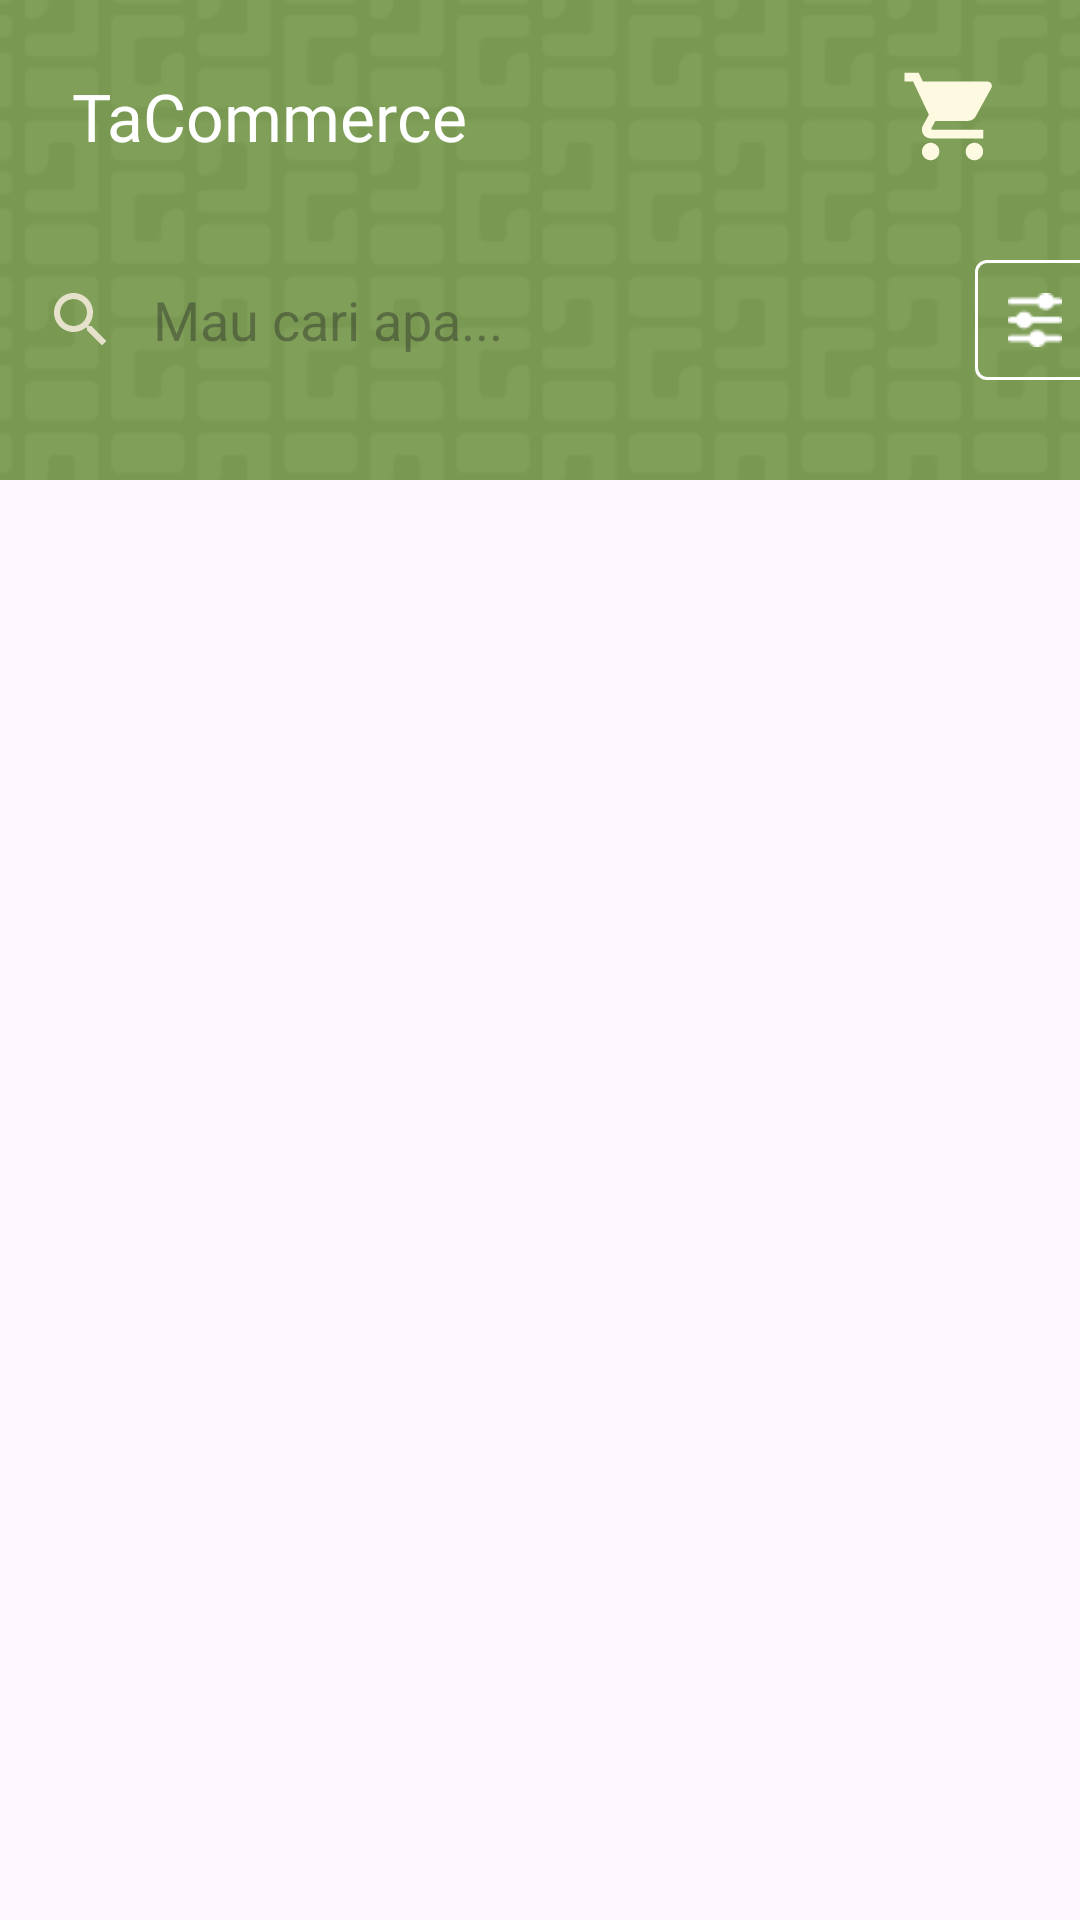

Where icons sit on this 1080px×1920px app screen, as (x1, y1, x2, y2):
shopping cart: (904, 72, 992, 161)
